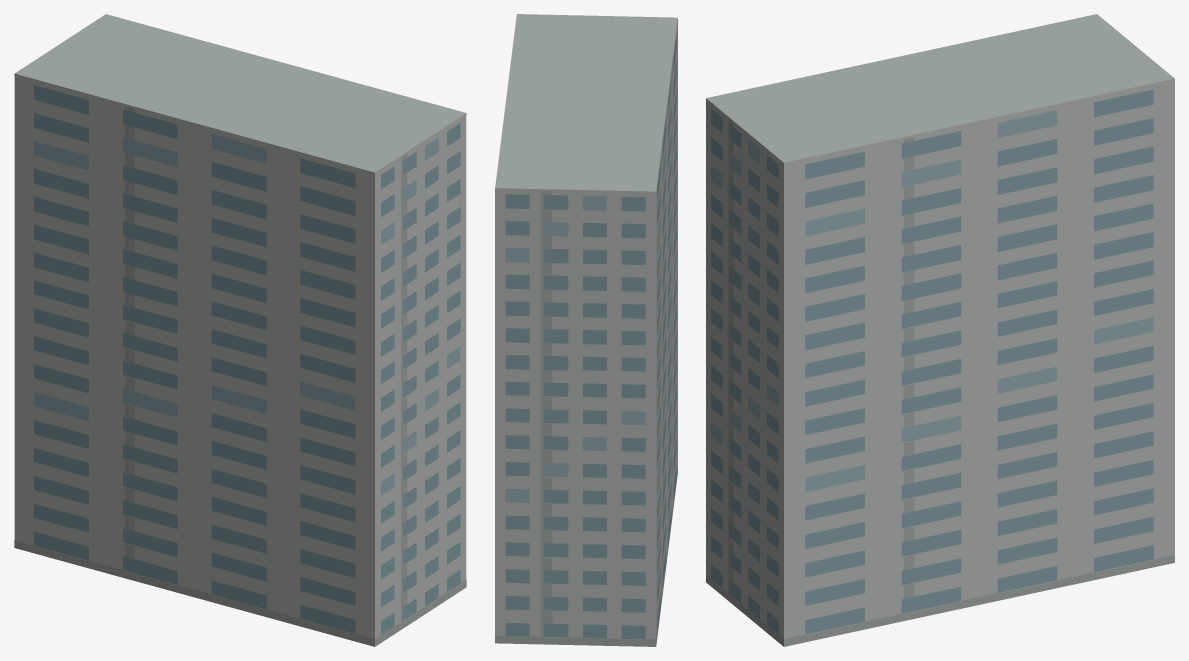
The model's file is residential-c1fd4e01-385f-4d8b-890f-06c73cdbfa2d.glb.
The picture shows the model from 3 angles, left to right: view 1: azimuth 30°, elevation 25°; view 2: azimuth 150°, elevation 25°; view 3: azimuth 270°, elevation 25°; orthographic projection. The views are drawn at different scales.
Visible parts, largest first — view 1: residential-c1fd4e01-385f-4d8b-890f-06c73cdbfa2d.tmp; view 2: residential-c1fd4e01-385f-4d8b-890f-06c73cdbfa2d.tmp; view 3: residential-c1fd4e01-385f-4d8b-890f-06c73cdbfa2d.tmp.
Part boxes in pixels (box(x1,y1,x2,y2)): residential-c1fd4e01-385f-4d8b-890f-06c73cdbfa2d.tmp: box(14, 14, 466, 646); residential-c1fd4e01-385f-4d8b-890f-06c73cdbfa2d.tmp: box(495, 14, 677, 646); residential-c1fd4e01-385f-4d8b-890f-06c73cdbfa2d.tmp: box(706, 14, 1174, 646).
Size of the model in its own units: 35.58 by 54 by 47.4.
